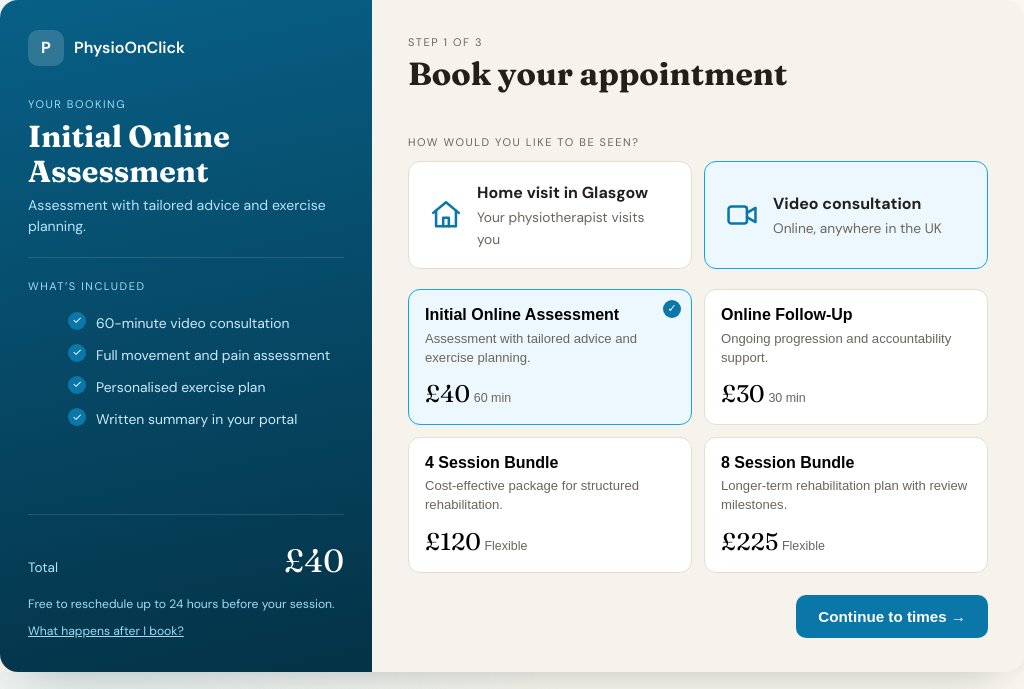
it: booking visit type › reveals required, length-capped address fields and the coverage status for a home visit
The image size is (1024, 689).
Click the radio button labelled "Home visit in Glasgow Your physiotherapist visits you".
click(550, 215)  # box x1=408 y1=161 x2=692 y2=269
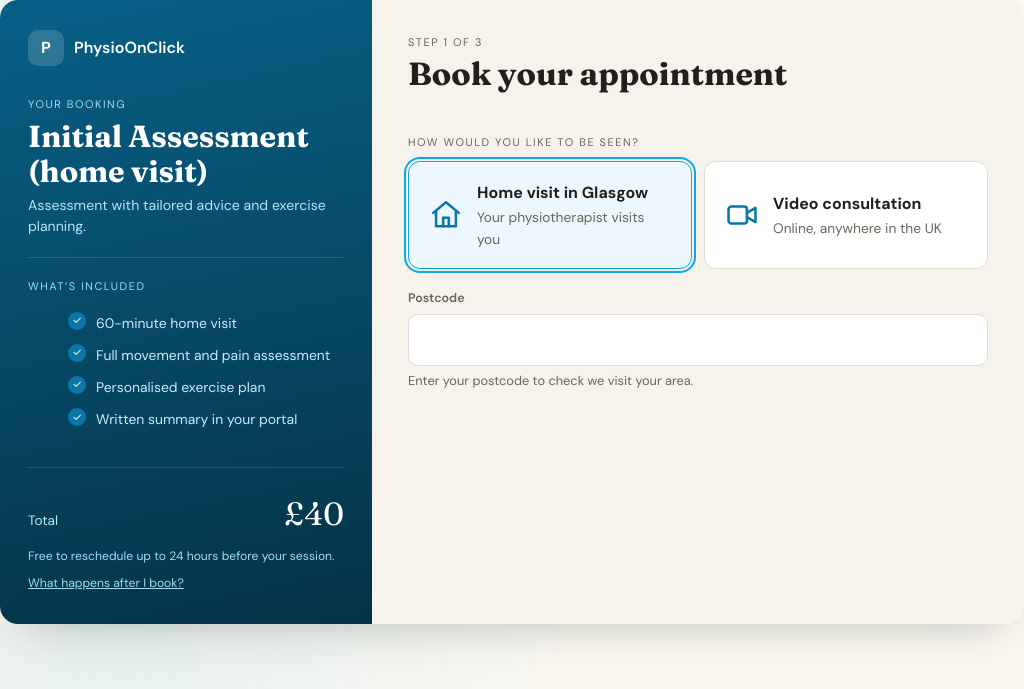
Expected: the field labelled "Address" is not shown
Expected: the text "Enter your postcode to check we visit your area." is shown, x1=408 y1=372 x2=693 y2=389
Type "G31 4HS" into the field labelled "Postcode".
click(698, 340); type("G31 4HS")  # box x1=408 y1=314 x2=988 y2=366
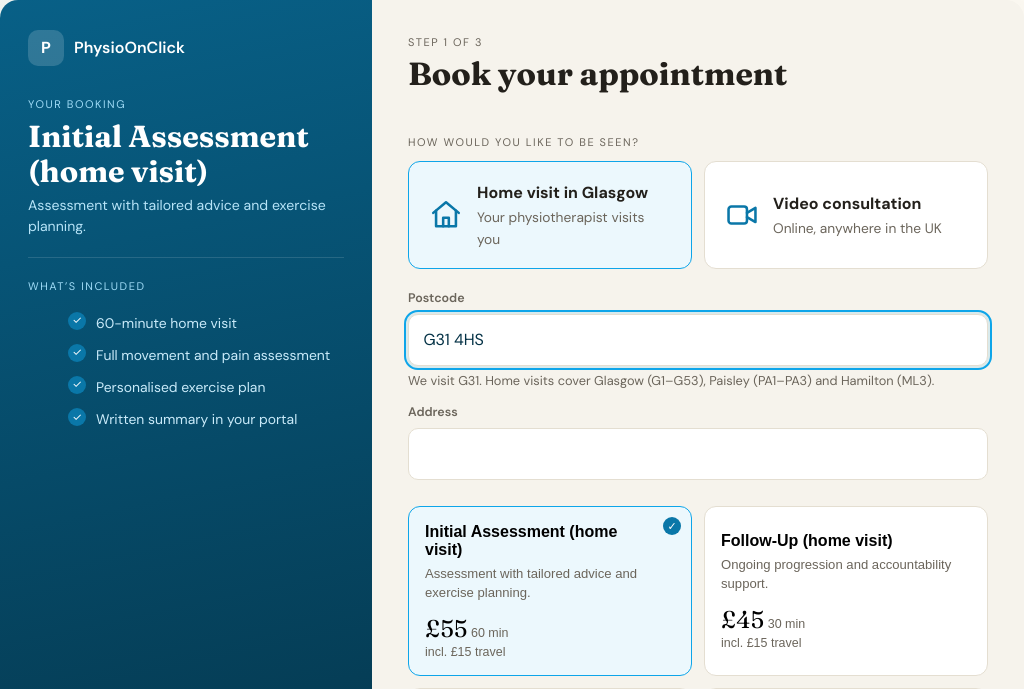
Expected: the text "We visit G31." shows "We visit G31. Home visits cover Glasgow (G1–G53), Paisley (PA1–PA3) and Hamilton (ML3).", x1=408 y1=372 x2=988 y2=391
Click the radio button labelled "Video consultation Online, anywhere in the UK".
click(846, 215)  # box x1=704 y1=161 x2=988 y2=269
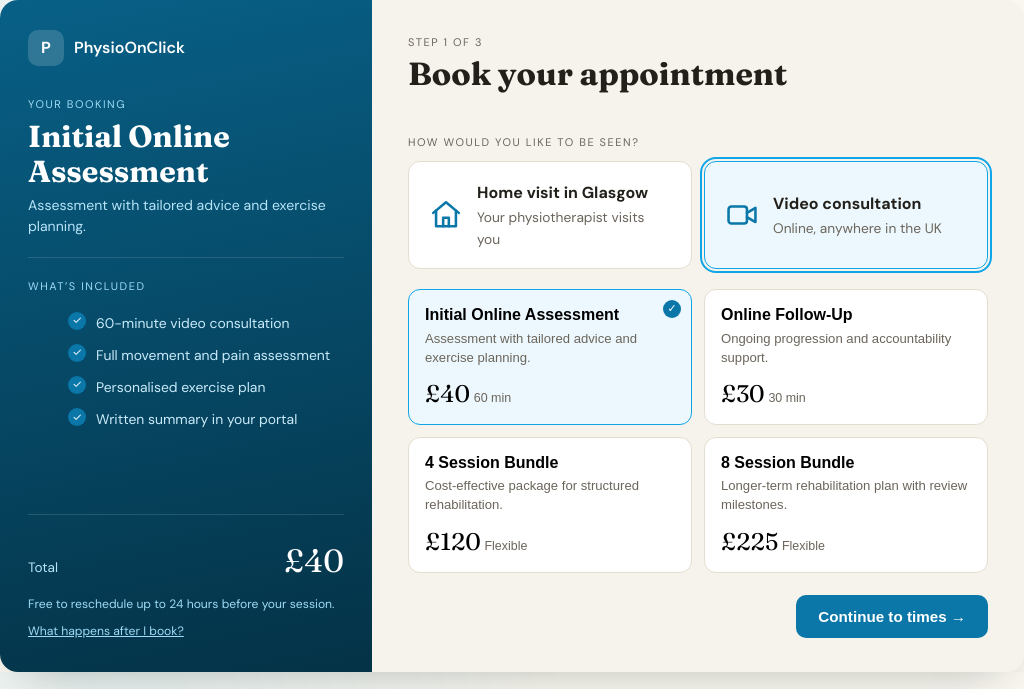
Expected: the label labelled "Address" is gone
Expected: the label labelled "Postcode" is gone
